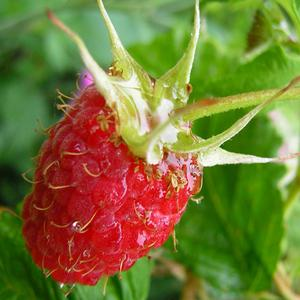raspb: (18, 89, 201, 285)
